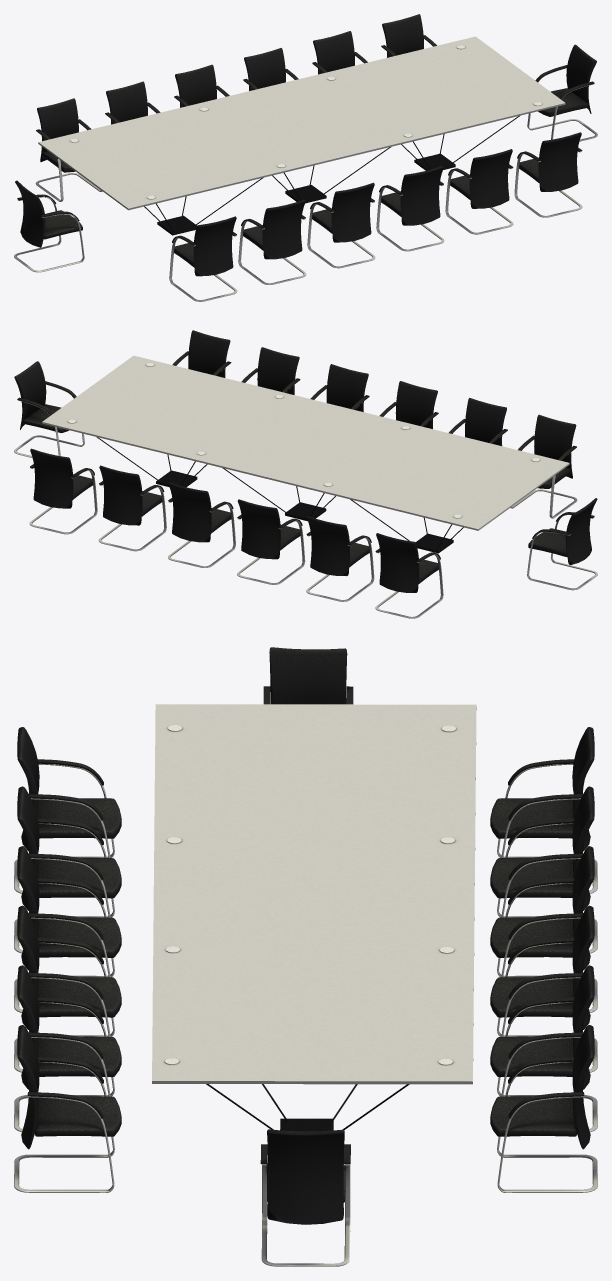
File: huiyizhuo2.obj
3 views of the same model, one above another, from view 1: azimuth 30°, elevation 25°; view 2: azimuth 150°, elevation 25°; view 3: azimuth 270°, elevation 25° (orthographic). The views are drawn at different scales.
Visible parts, largest first — view 1: Rectangle12, Line1789527804, Line1789527803, Line1789527800, Line1789527801, Line1789527802, Line1789527805, Line1789527806, Line1789527749, Line1789527812, Line1789527811, Line1789527810 (+3 smaller); view 2: Rectangle12, Line1789527812, Line1789527807, Line1789527811, Line1789527808, Line1789527810, Line1789527809, Line1789527806, Line1789527800, Line1789527749, Line1789527803, Line1789527801 (+3 smaller); view 3: Rectangle12, Line1789527749, Line1789527811, Line1789527805, Line1789527804, Line1789527810, Line1789527808, Line1789527802, Line1789527803, Line1789527809, Line1789527800, Line1789527812 (+3 smaller).
Part boxes in pixels (x1,y1,x2,y2): Rectangle12: [38, 36, 565, 235]; Line1789527804: [445, 149, 513, 234]; Line1789527803: [376, 166, 444, 251]; Line1789527800: [169, 216, 237, 301]; Line1789527801: [238, 199, 306, 284]; Line1789527802: [307, 182, 375, 268]; Line1789527805: [514, 132, 582, 217]; Line1789527806: [14, 180, 84, 272]; Line1789527749: [527, 44, 597, 141]; Line1789527812: [35, 98, 102, 201]; Line1789527811: [381, 14, 436, 57]; Line1789527810: [312, 31, 367, 74]; Rectangle12: [42, 355, 569, 553]; Line1789527812: [375, 533, 443, 618]; Line1789527807: [306, 516, 374, 601]; Line1789527811: [29, 448, 97, 534]; Line1789527808: [237, 499, 305, 584]; Line1789527810: [98, 465, 166, 551]; Line1789527809: [168, 482, 235, 567]; Line1789527806: [527, 498, 597, 590]; Line1789527800: [510, 414, 577, 518]; Line1789527749: [14, 361, 84, 457]; Line1789527803: [310, 364, 369, 411]; Line1789527801: [449, 398, 507, 445]; Rectangle12: [152, 704, 476, 1131]; Line1789527749: [260, 1129, 350, 1266]; Line1789527811: [490, 1025, 597, 1192]; Line1789527805: [14, 1025, 121, 1192]; Line1789527804: [14, 965, 121, 1132]; Line1789527810: [490, 965, 597, 1132]; Line1789527808: [490, 846, 597, 1012]; Line1789527802: [14, 846, 121, 1012]; Line1789527803: [14, 905, 121, 1072]; Line1789527809: [490, 905, 597, 1072]; Line1789527800: [14, 727, 121, 893]; Line1789527812: [490, 727, 597, 893].
Bounding box in the file's own units: 648 × 83.3 × 328.
2 materials, 2 textured.
